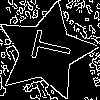T: (21, 26, 74, 67)
